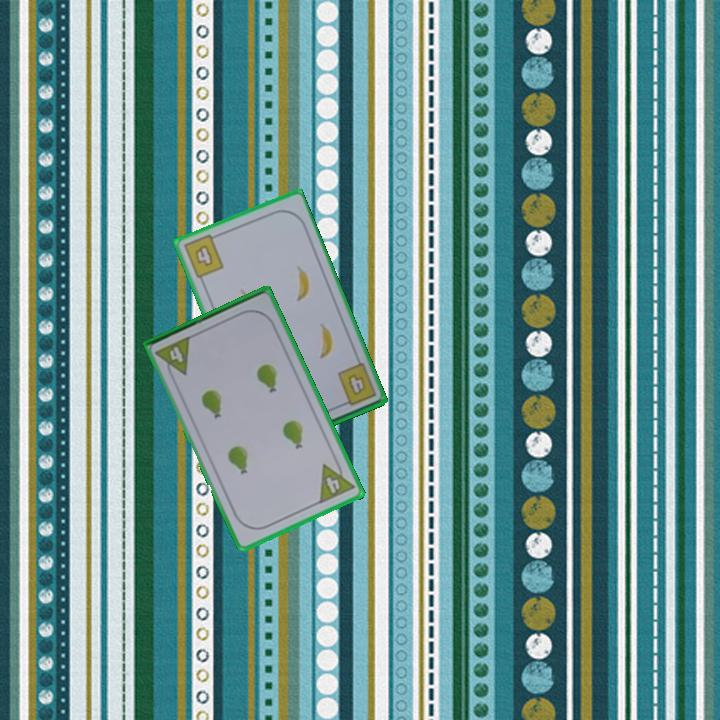4b: (180, 230, 227, 281), (333, 359, 379, 409)
4p: (316, 455, 357, 507), (152, 332, 194, 382)
